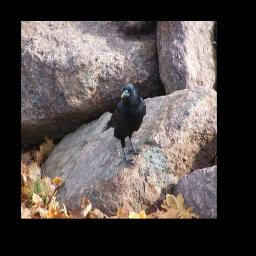Crow: (97, 79, 147, 169)
